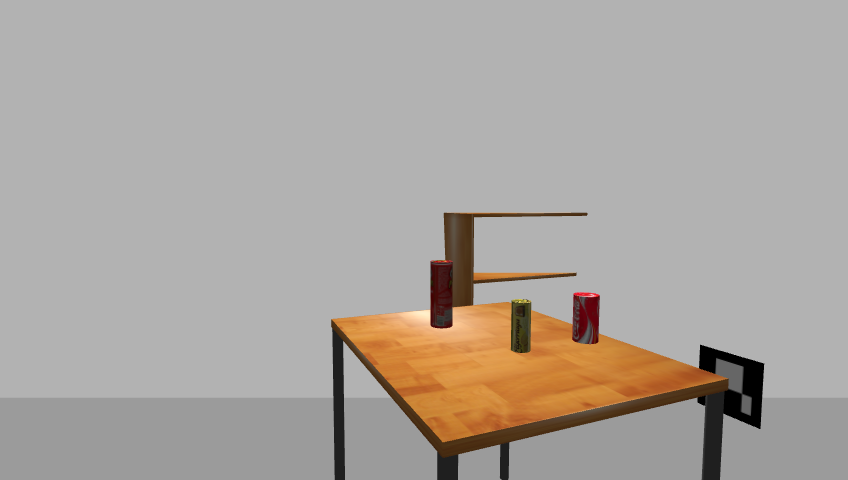aruco marker: (692, 344, 769, 430)
biscuits pack: (509, 299, 533, 354)
bookshelf: (439, 208, 593, 375)
coke can: (570, 292, 601, 345)
dinner table: (324, 303, 734, 480)
pringles can: (428, 259, 455, 330)
